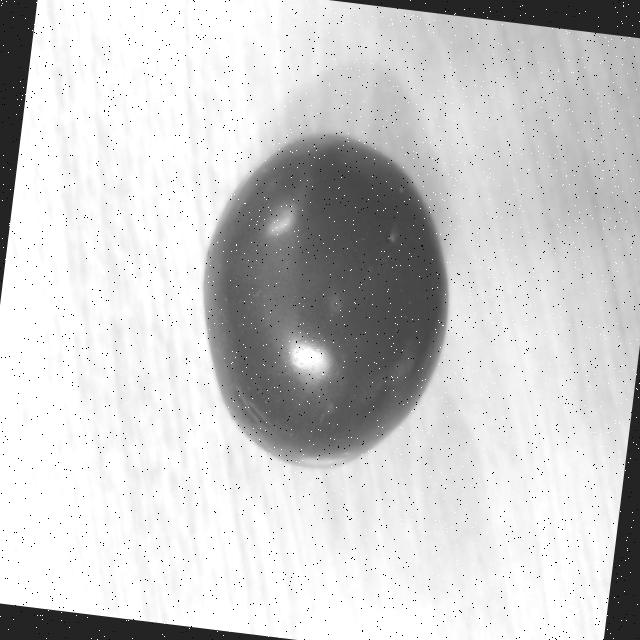Ripe: (178, 114, 471, 488)
